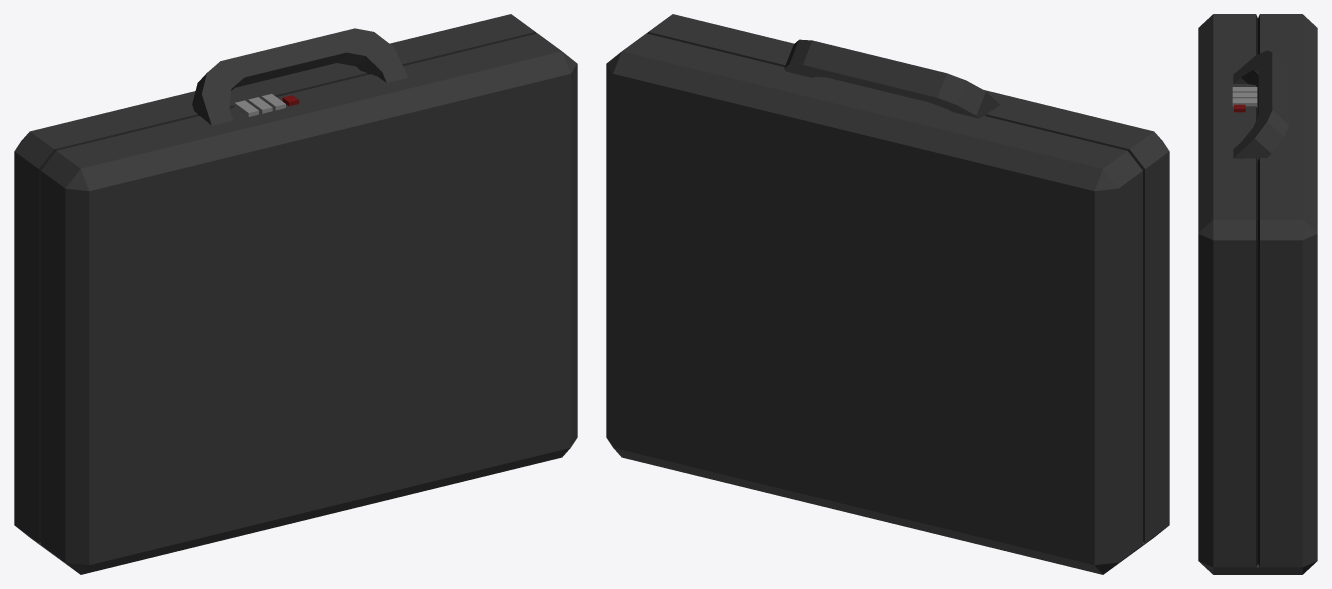
The model's file is Briefcase_1.fbx.
The picture shows the model from 3 angles, left to right: view 1: azimuth 30°, elevation 25°; view 2: azimuth 150°, elevation 25°; view 3: azimuth 270°, elevation 25°; orthographic projection. The views are drawn at different scales.
Visible parts, largest first — view 1: Briefcase_1; view 2: Briefcase_1; view 3: Briefcase_1.
Boxes of the visible parts, box(x1,y1,x2,y2) form: Briefcase_1: box(14, 14, 577, 574); Briefcase_1: box(606, 14, 1169, 574); Briefcase_1: box(1198, 14, 1317, 574).
Bounding box in the file's own units: 72.99 × 60.85 × 16.87.
